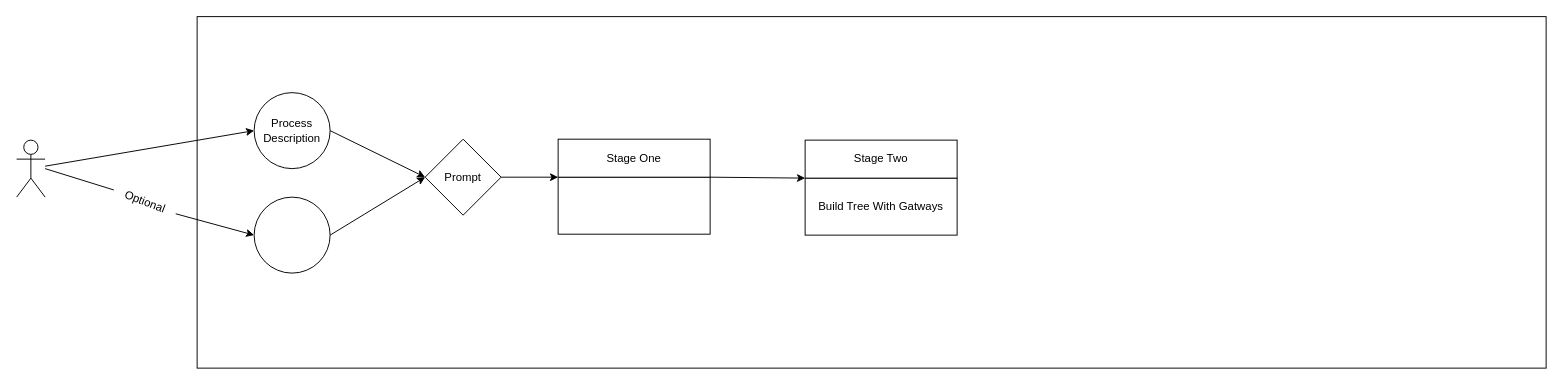
The diagram is 1563 pixels wide and 385 high, and some of its shapes have lost their labels. Each missing label, with the centre of its shape:
"Generate Flows Scenarios" goes at point 633,205.
"Notes" goes at point 291,234.
"User" goes at point 30,168.
